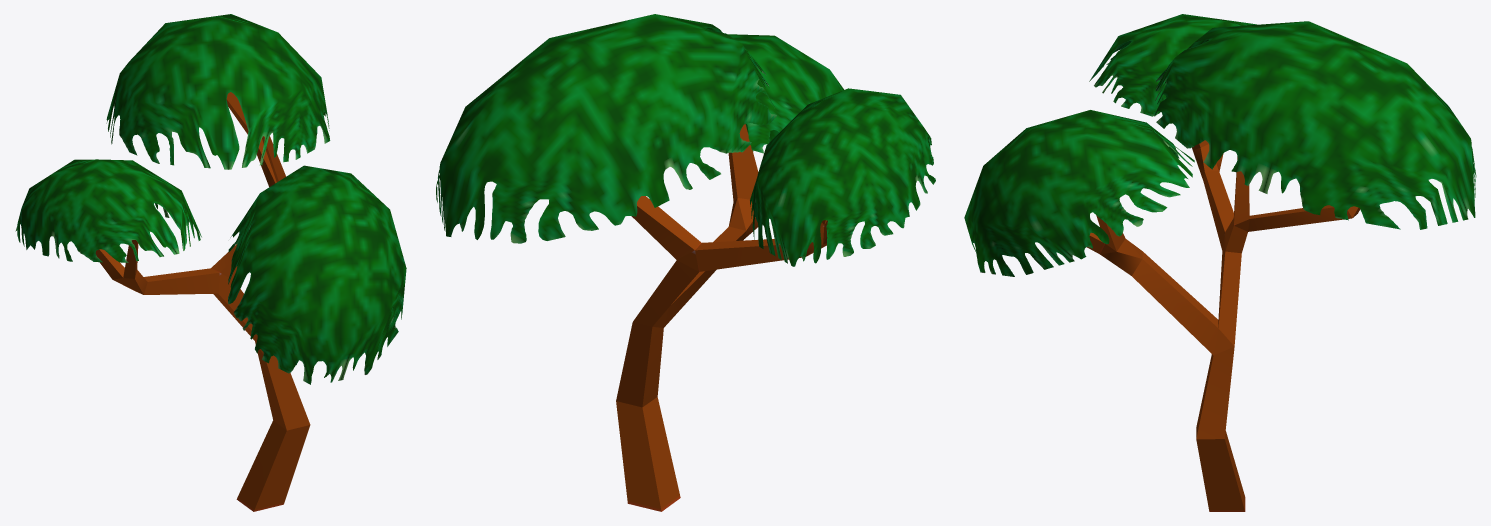
The model's file is SM_Tree_E04.fbx.
The picture shows the model from 3 angles, left to right: view 1: azimuth 30°, elevation 25°; view 2: azimuth 150°, elevation 25°; view 3: azimuth 270°, elevation 25°; orthographic projection. The views are drawn at different scales.
Visible parts, largest first — view 1: SM_Tree_E04; view 2: SM_Tree_E04; view 3: SM_Tree_E04.
Part boxes in pixels (bbox=[...]): SM_Tree_E04: bbox=[15, 14, 406, 511]; SM_Tree_E04: bbox=[436, 14, 935, 511]; SM_Tree_E04: bbox=[964, 14, 1476, 511].
Bounding box in the file's own units: 283 × 358 × 358.
